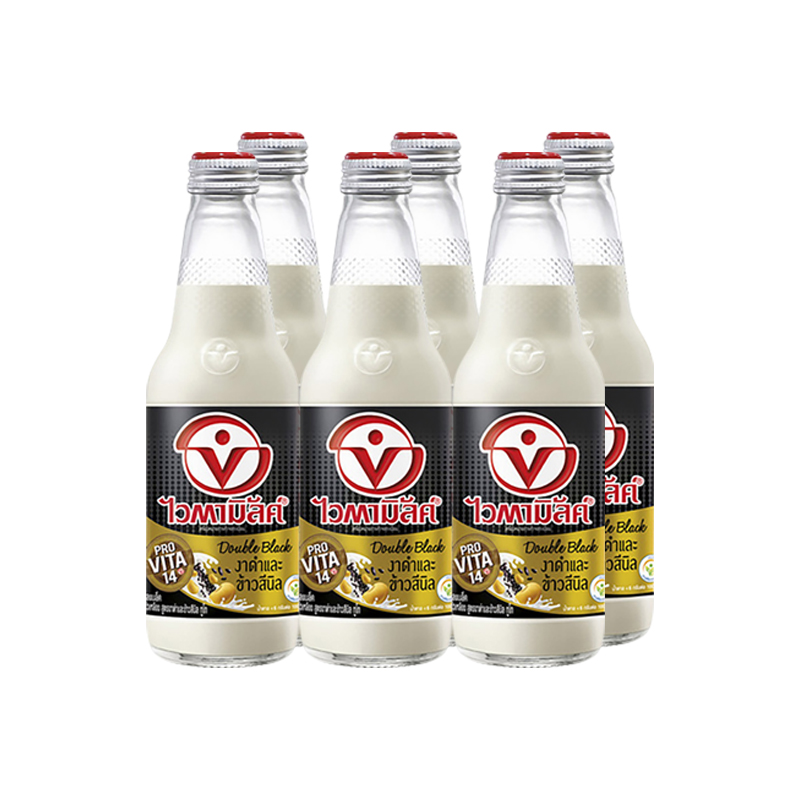glass_bottle: (127, 112, 677, 683)
